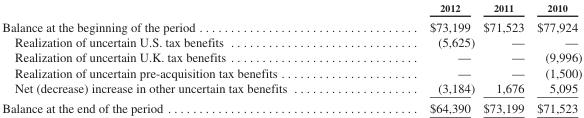table: (1, 1, 581, 114)
table column: (1, 1, 357, 114), (357, 1, 478, 114), (529, 1, 581, 114), (478, 1, 529, 114)
table column header: (1, 1, 581, 16)
table row: (1, 16, 581, 34), (1, 79, 581, 97), (1, 97, 581, 114), (1, 1, 581, 16), (1, 34, 581, 49), (1, 49, 581, 64), (1, 64, 581, 79)
